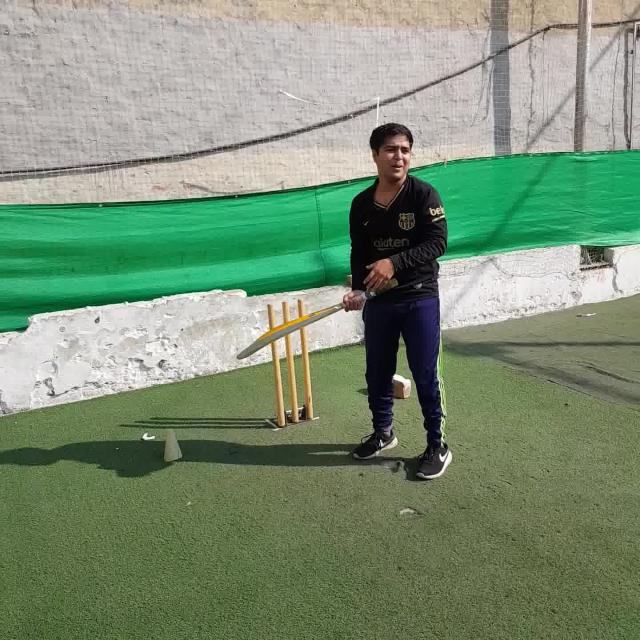bat: (238, 278, 398, 359)
